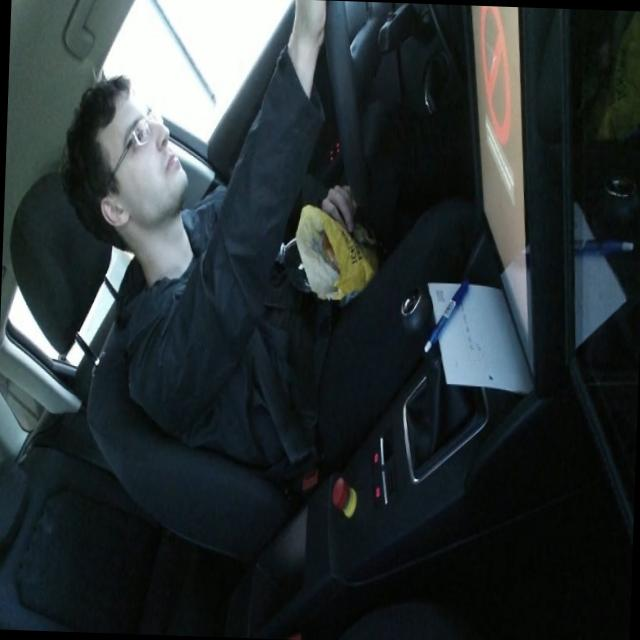pen: (422, 276, 470, 354)
